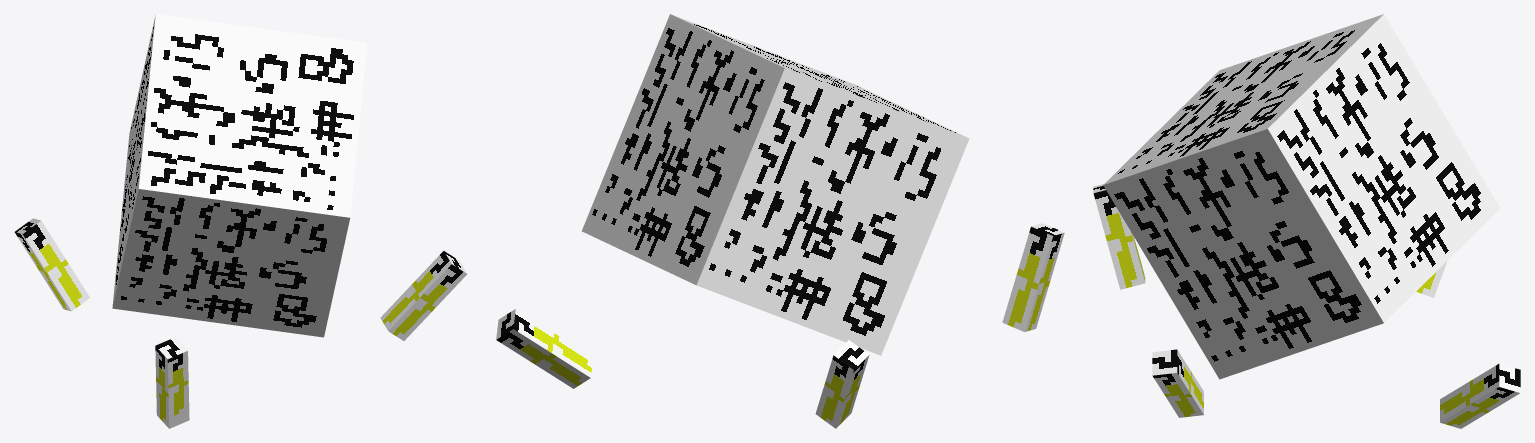
File: redic.obj
3 views of the same model, side by side, from view 1: azimuth 30°, elevation 25°; view 2: azimuth 150°, elevation 25°; view 3: azimuth 270°, elevation 25° (orthographic). The views are drawn at different scales.
Visible parts, largest first — view 1: cube; view 2: cube; view 3: cube.
Part boxes in pixels (x1,y1,x2,y2): cube: (14,14,467,428); cube: (496,14,1064,428); cube: (1093,14,1520,428).
Size of the model in its own units: 1.01 by 0.8843 by 1.03.
